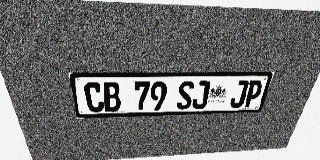7: (133, 81, 150, 111)
9: (150, 81, 167, 110)
B: (102, 82, 121, 112)
C: (83, 82, 104, 112)
J: (229, 80, 250, 108), (191, 81, 211, 109)
P: (243, 80, 264, 107)
S: (176, 81, 195, 109)
